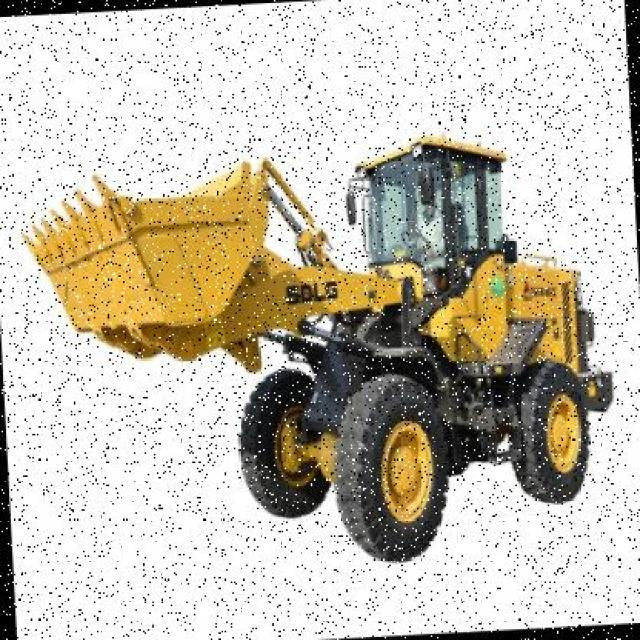buldozerpayloadergrader: (12, 97, 620, 589)
